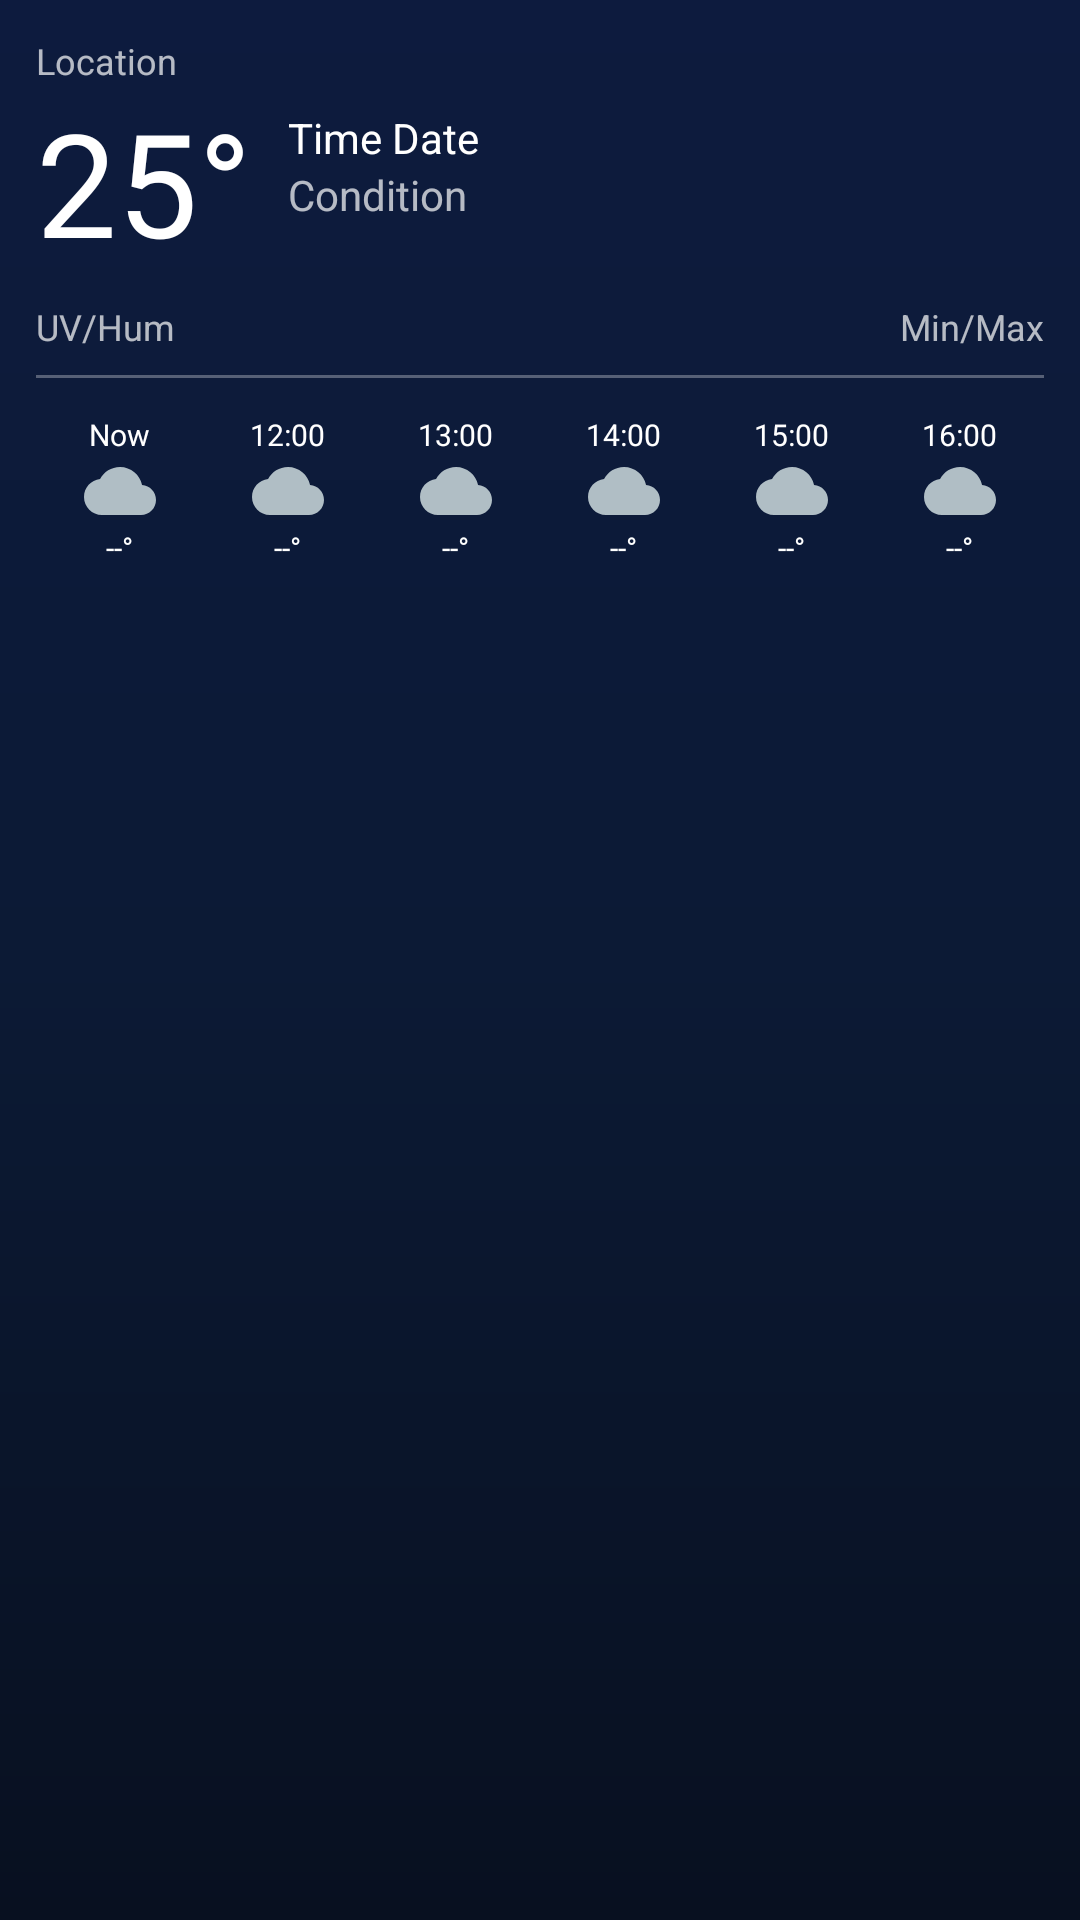

Named icons in this screenshot (1080w x 1920h) and their bounding boxes, (x1, y1, x2, y2):
cloudy: (84, 467, 156, 515), (252, 467, 324, 515), (420, 467, 492, 515), (588, 467, 660, 515), (756, 467, 828, 515), (924, 467, 996, 515)
